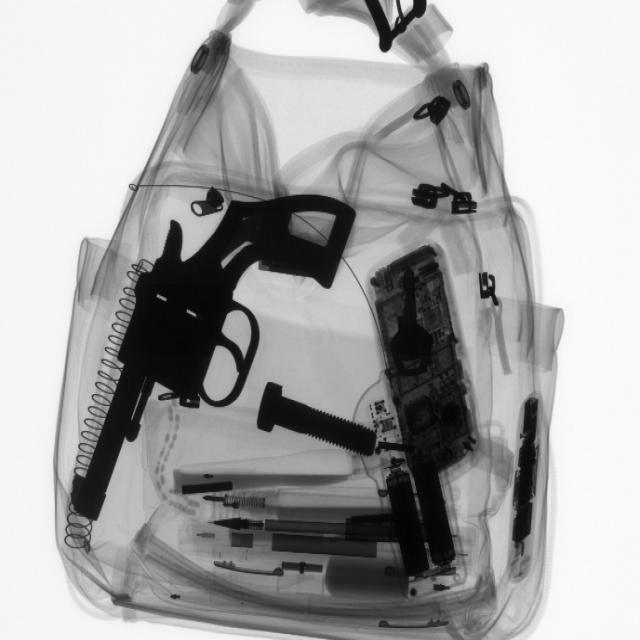GUN: (66, 193, 367, 523)
